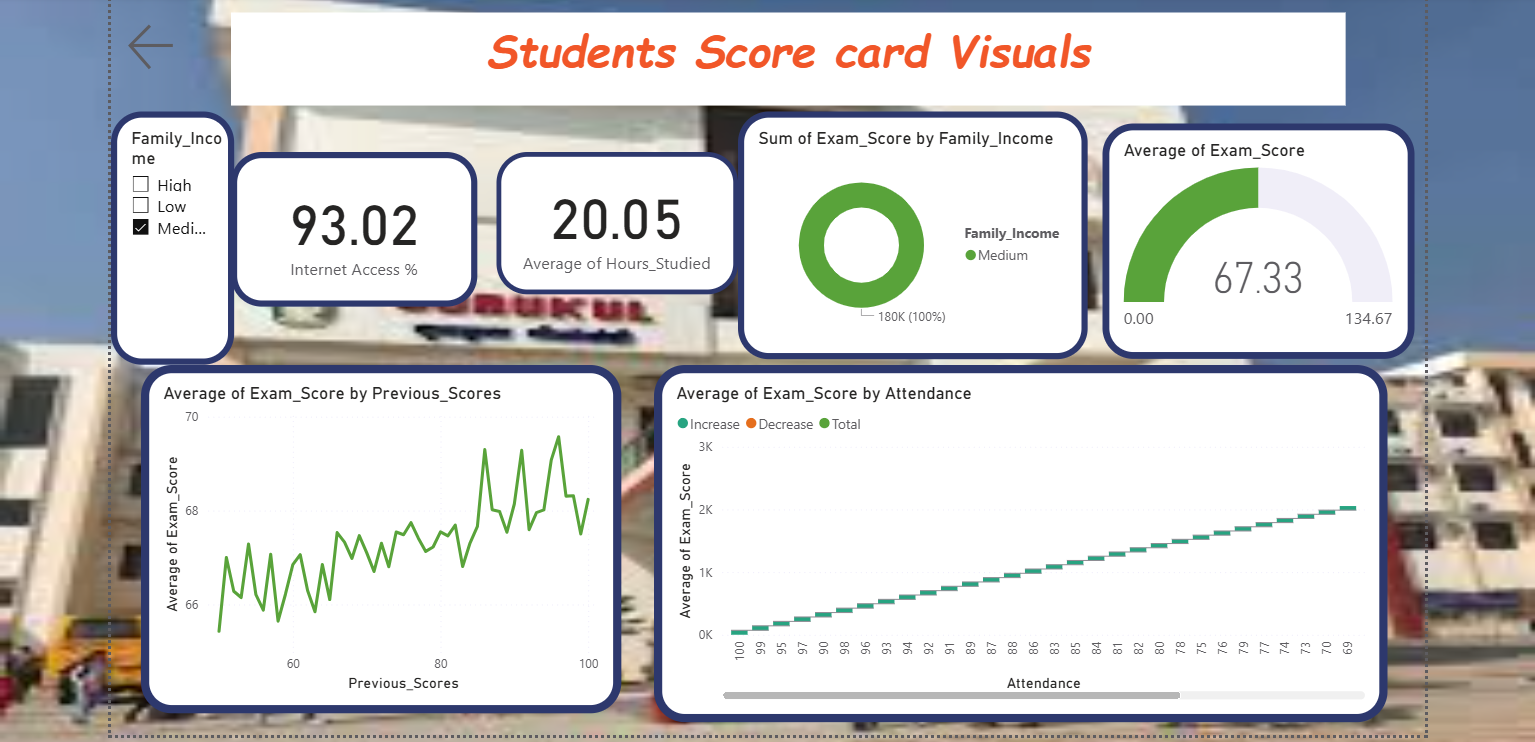

What the dashboard file says about the page in this screenshot:
{"tool":"powerbi","page":{"name":"Score card","canvas":[1280,720],"ordinal":1},"visuals":[{"type":"waterfallChart","fields":{"Category":["StudentPerformanceFactors.Attendance"],"Y":["Avg(StudentPerformanceFactors.Exam_Score)"]},"box":[529.1,359.5,714.7,347.8],"z":0},{"type":"gauge","fields":{"Y":["Avg(StudentPerformanceFactors.Exam_Score)"]},"box":[966,124.2,304,229.5],"z":1000},{"type":"card","fields":{"Values":["StudentPerformanceFactors.Internet Access %"]},"box":[116.9,152,239.7,150.5],"z":2000},{"type":"card","fields":{"Values":["Avg(StudentPerformanceFactors.Hours_Studied)"]},"box":[375.6,152,235.3,138.8],"z":3000},{"type":"textbox","box":[116.6,16,1086.1,90.4],"z":4000},{"type":"donutChart","fields":{"Y":["Sum(StudentPerformanceFactors.Exam_Score)"],"Category":["StudentPerformanceFactors.Family_Income"]},"box":[610.9,112.5,340.5,241.1],"z":5000},{"type":"lineChart","fields":{"Y":["Avg(StudentPerformanceFactors.Exam_Score)"],"Category":["StudentPerformanceFactors.Previous_Scores"]},"box":[29.2,359.5,467.7,339.1],"z":6000},{"type":"actionButton","box":[11.7,21.9,99.4,55.5],"z":7000},{"type":"listSlicer","fields":{"Values":["StudentPerformanceFactors.Family_Income"]},"box":[0,112.5,119.8,247],"z":8000}]}

Visuals, with their boxes in screenshot pixels (x1, y1, x2, y2):
waterfallChart - StudentPerformanceFactors.Attendance x Avg(StudentPerformanceFactors.Exam_Score): left=651, top=362, right=1379, bottom=716
gauge - Avg(StudentPerformanceFactors.Exam_Score): left=1096, top=122, right=1405, bottom=356
card - StudentPerformanceFactors.Internet Access %: left=231, top=151, right=475, bottom=304
card - Avg(StudentPerformanceFactors.Hours_Studied): left=494, top=151, right=734, bottom=292
textbox: left=231, top=12, right=1337, bottom=104
donutChart - Sum(StudentPerformanceFactors.Exam_Score) x StudentPerformanceFactors.Family_Income: left=734, top=111, right=1081, bottom=356
lineChart - Avg(StudentPerformanceFactors.Exam_Score) x StudentPerformanceFactors.Previous_Scores: left=142, top=362, right=618, bottom=707
actionButton: left=124, top=18, right=225, bottom=75
listSlicer - StudentPerformanceFactors.Family_Income: left=112, top=111, right=234, bottom=362
